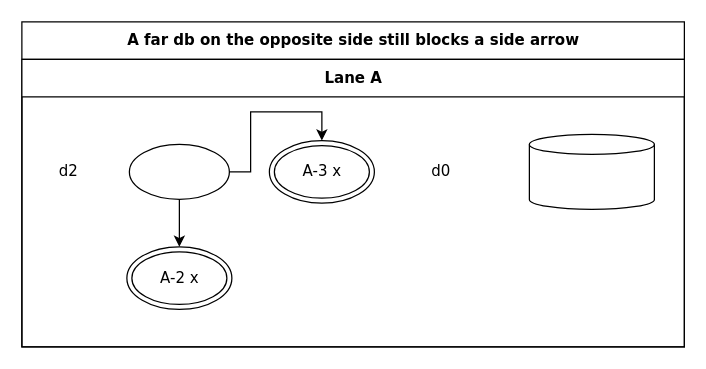
Some shapes in this 706 by 369 pixel diagram are drawn without their labels. The shapes that lost their labels are listed below. From the top down, each one's centre as x and y in pixels, then its label:
At (178,171): "A-1 x".
At (591,171): "d1".
